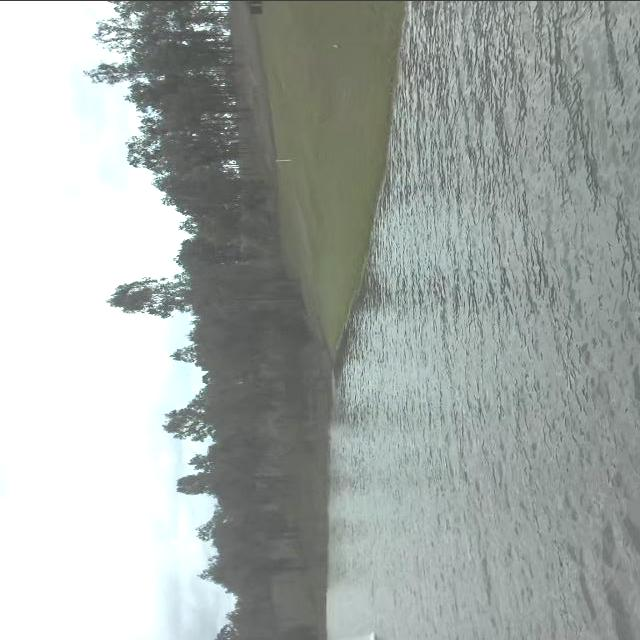White_Buoy: (351, 633, 381, 640)
